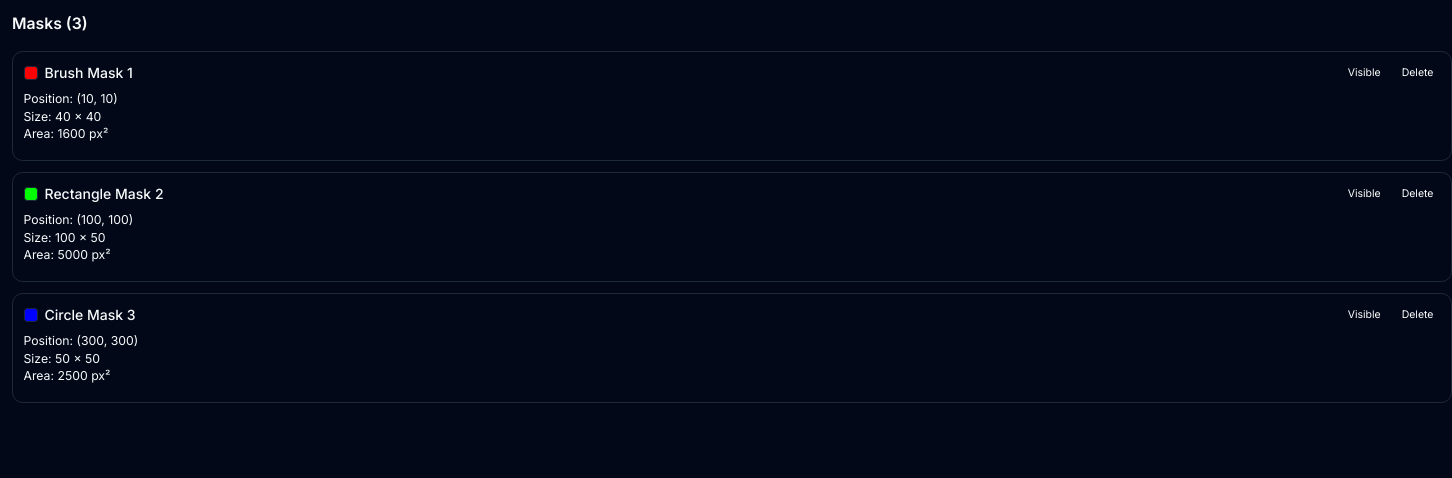
Test case: MaskVisualization › Mask Selection › should show expanded controls when mask is selected
Click the text "Brush Mask 1" at (732, 106), box [12, 50, 1451, 161]
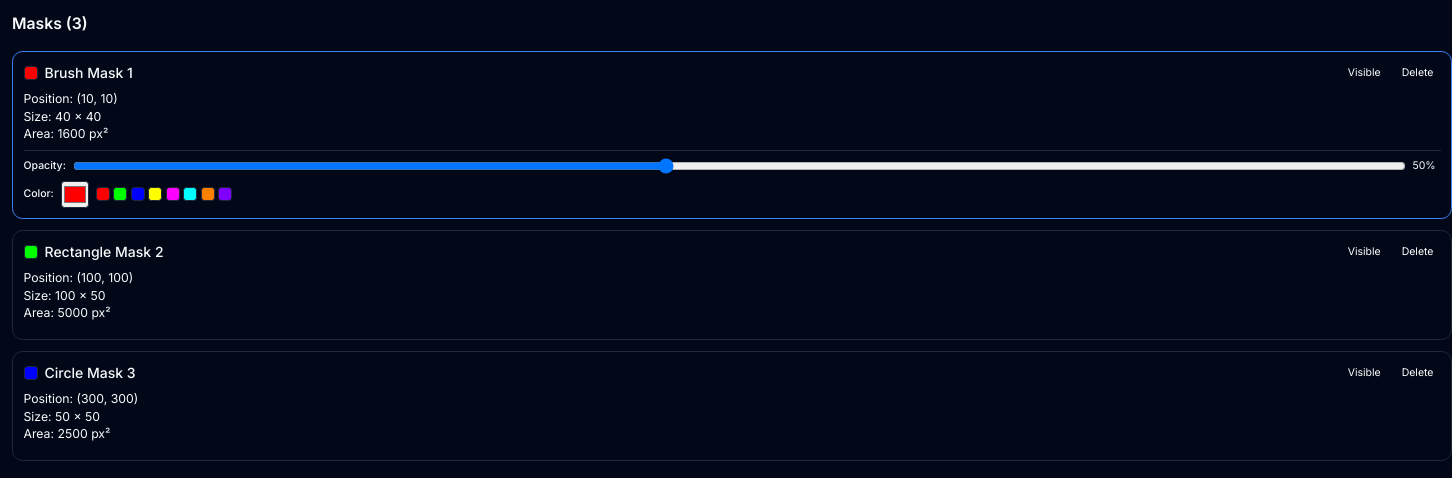
Expected: the text "Opacity:" is shown, [24, 158, 66, 172]
Expected: the text "Color:" is shown, [24, 187, 54, 201]
